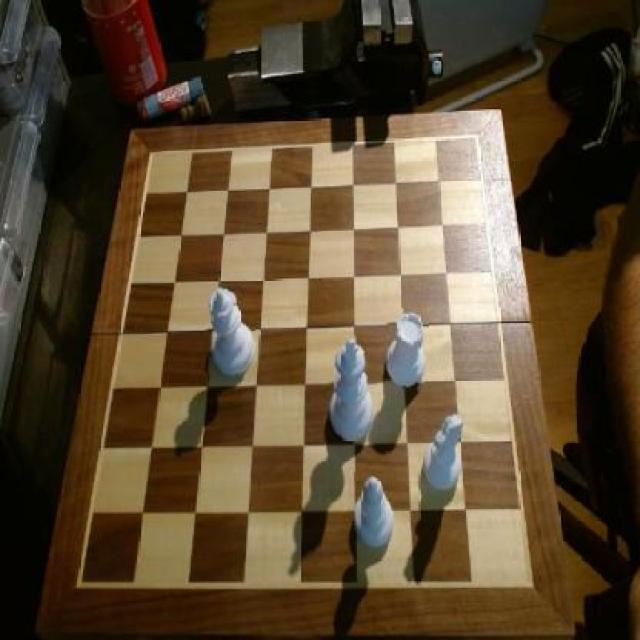black-rook: (354, 472, 398, 550)
white-bishop: (328, 337, 378, 448)
white-king: (420, 409, 465, 489)
white-pawn: (207, 286, 256, 376)
white-queen: (385, 308, 429, 390)
